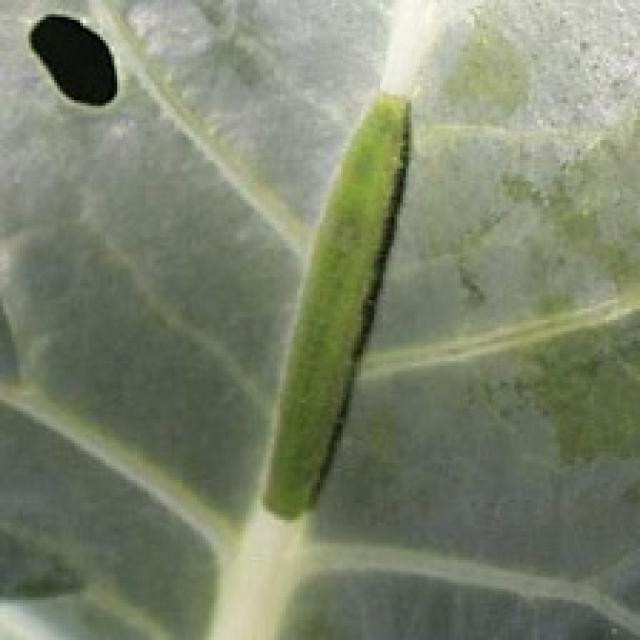Cabbage-worm: (253, 68, 428, 564)
